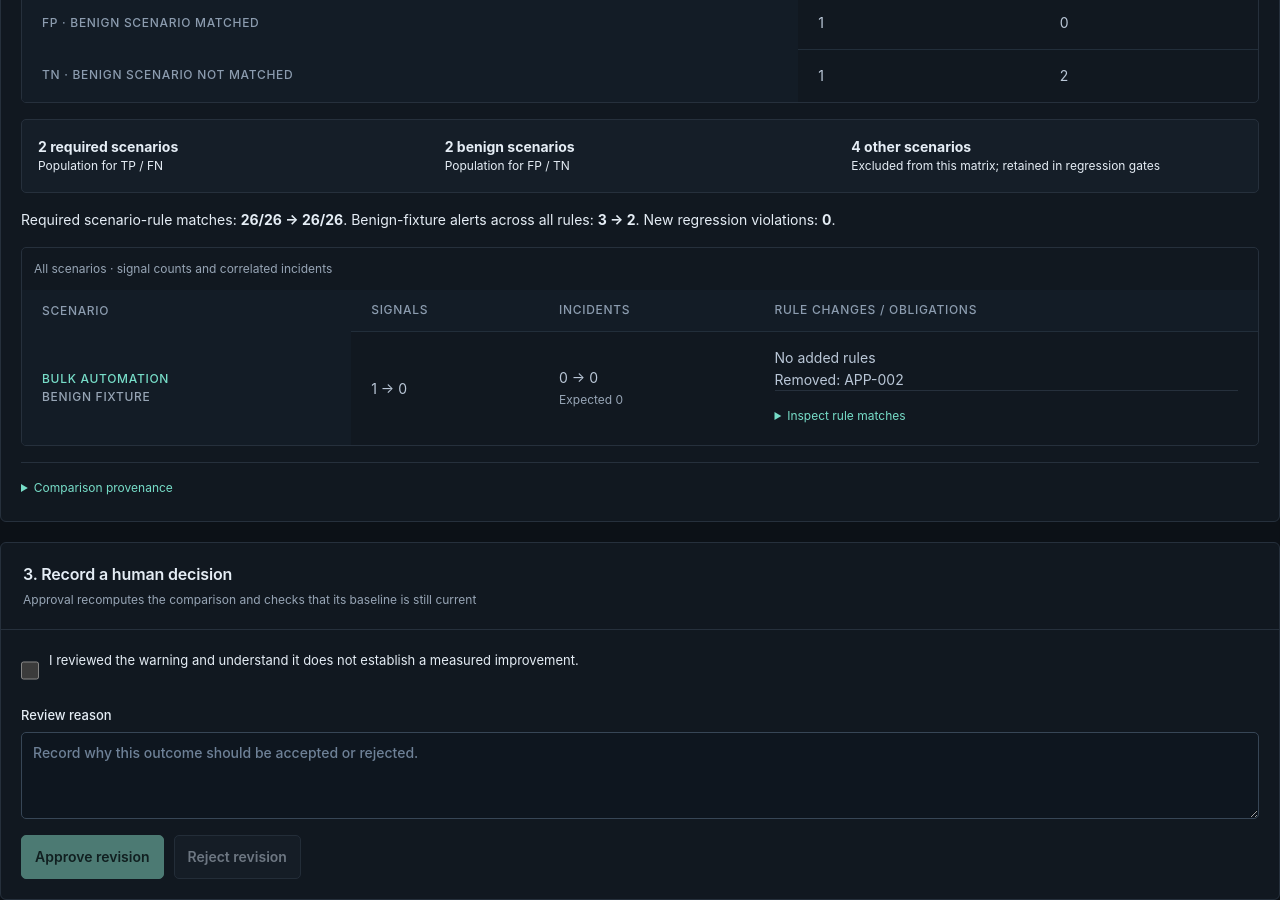
Test case: detection workbench › requires deliberate acknowledgment before a WARN approval
(page scrolled)
Type "I reviewed the unchanged fixture outcomes" into the text box labelled "Review reason" at {"x": 640, "y": 776}, box [21,732,1259,819]
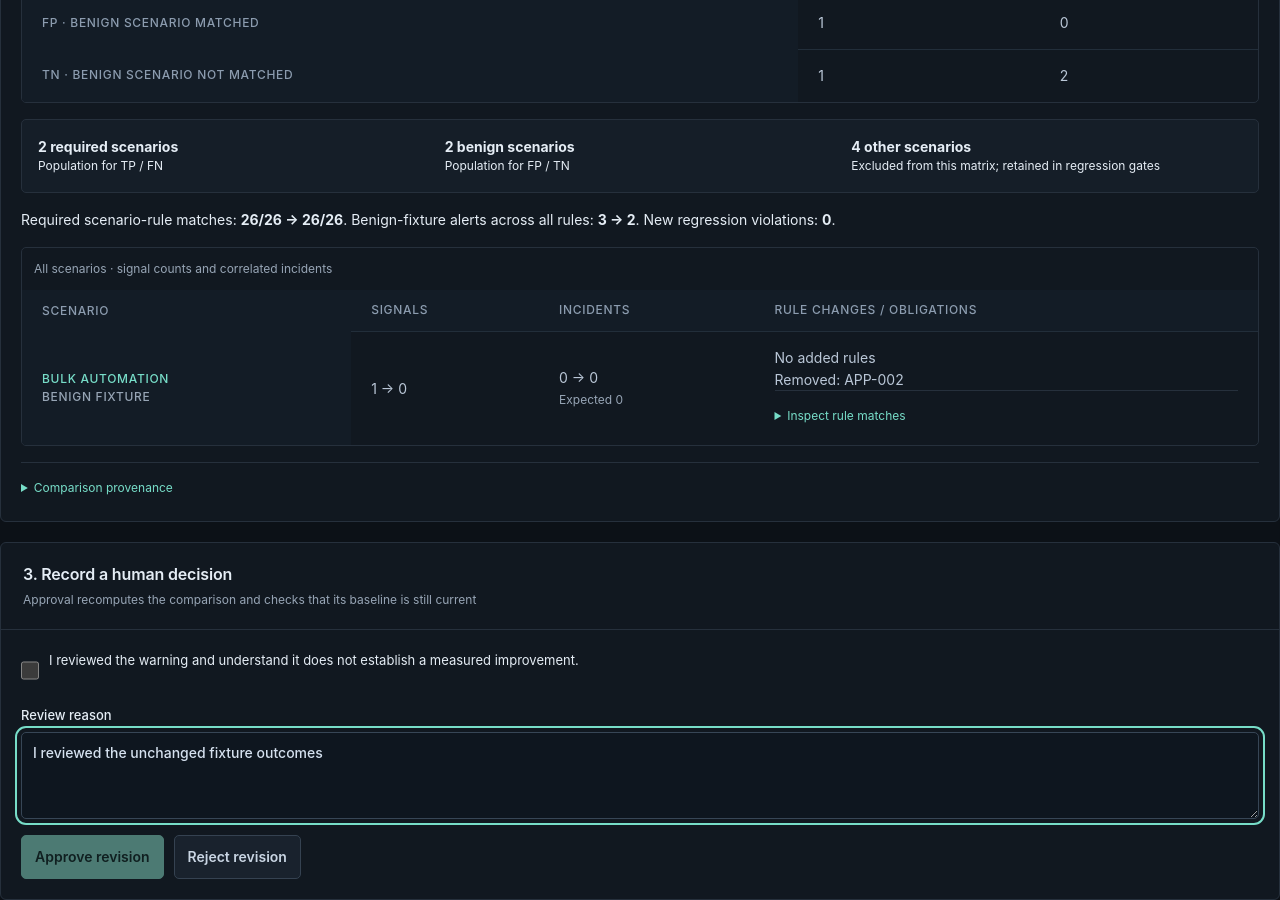
Expected: the button "Approve revision" is disabled, [21,835,164,879]
Click the checkbox labelled "reviewed the warning" at {"x": 30, "y": 670}, box [21,652,39,689]
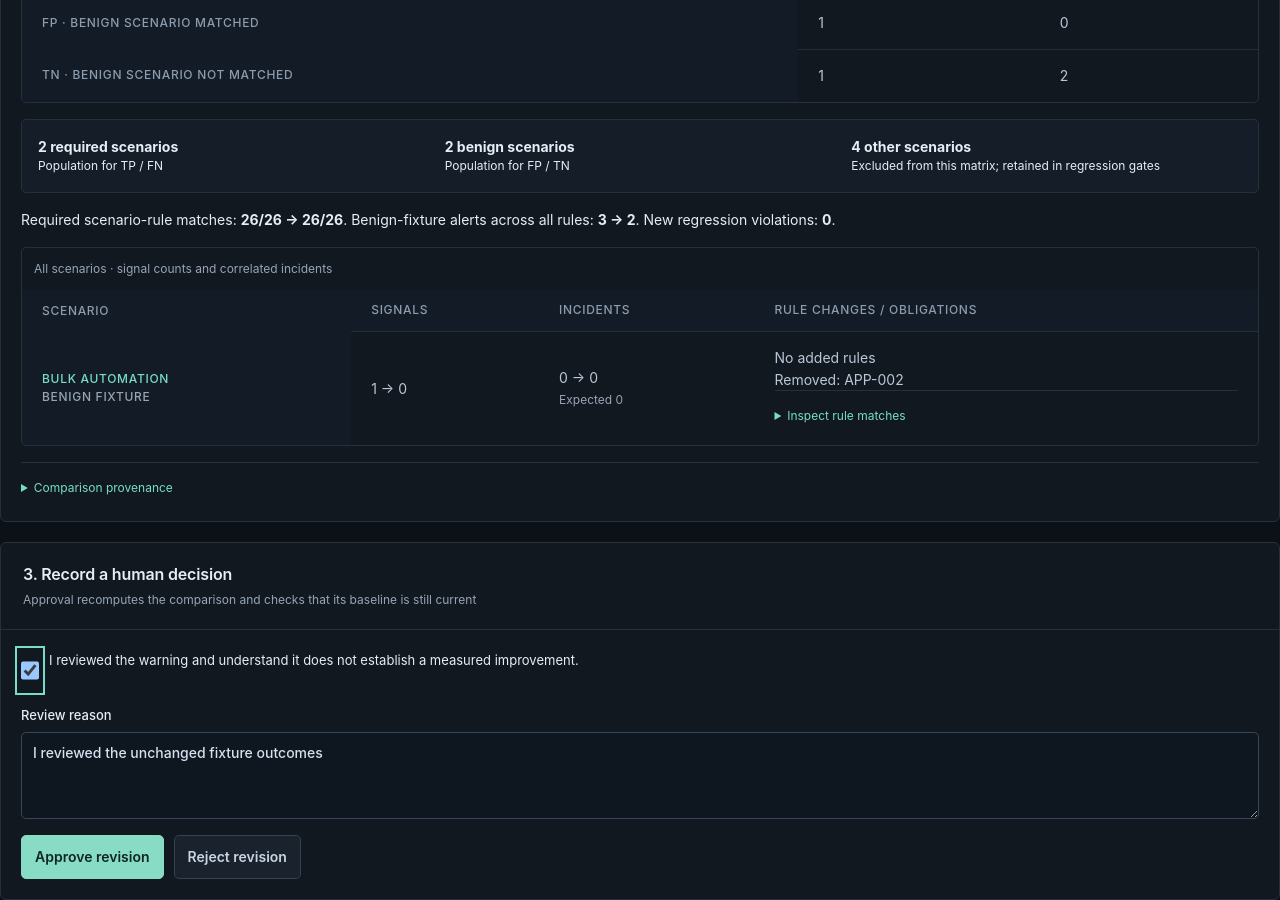
Expected: the button "Approve revision" is enabled, [21,835,164,879]
